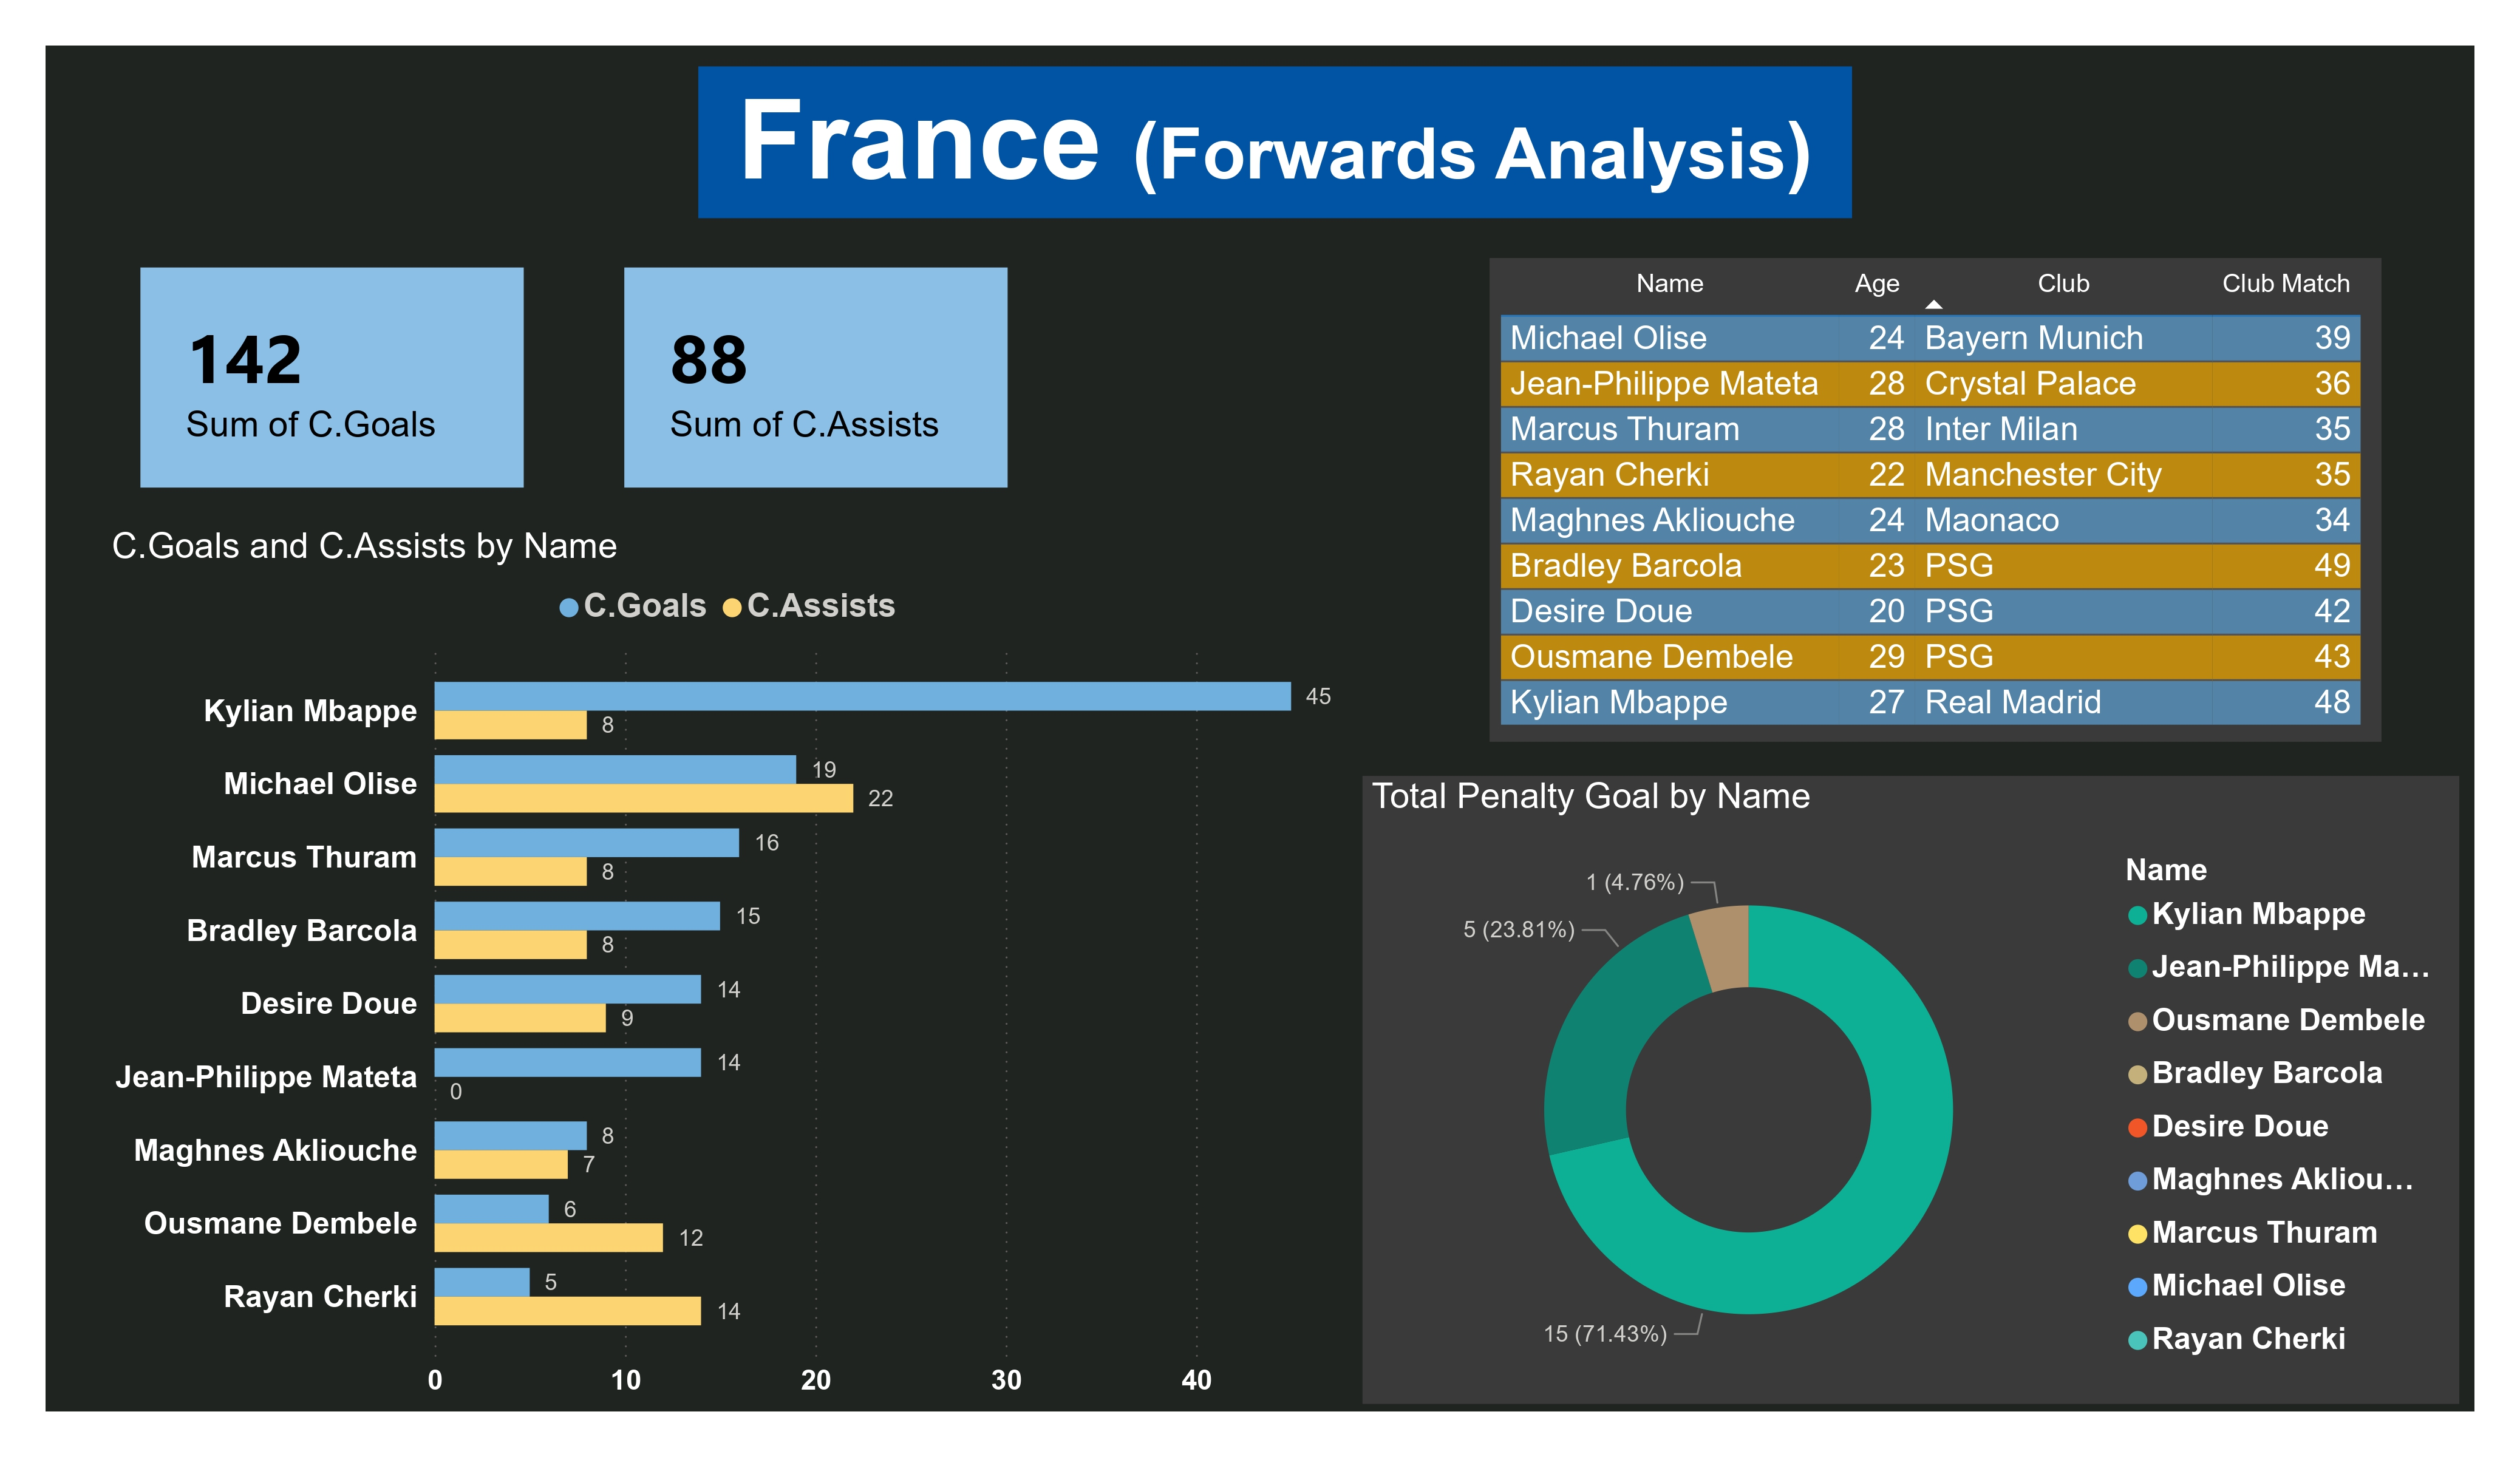

The page's visual inventory and layout, read from the dashboard file:
{"tool":"powerbi","page":{"name":"Fowards","canvas":[1280,720],"ordinal":0},"visuals":[{"type":"slicer","fields":{"Values":["Sheet1.Position"]},"box":[995.9,522.4,246.5,181.2],"z":0},{"type":"clusteredBarChart","fields":{"Category":["Sheet1.Name"],"Y":["Sum(Sheet1.C.Goals)","Sum(Sheet1.C.Assists)"]},"box":[30,253.3,663.3,466.7],"z":1000},{"type":"cardVisual","fields":{"Data":["Sum(Sheet1.C.Goals)"]},"box":[45,111.7,211.7,126.7],"z":2000},{"type":"cardVisual","fields":{"Data":["Sum(Sheet1.C.Assists)"]},"box":[300,111.7,211.7,126.7],"z":3000},{"type":"donutChart","fields":{"Category":["Sheet1.Name"],"Y":["Sum(Sheet1.Total Penalty Goal)"]},"box":[693.6,384.6,578.5,331],"z":4000},{"type":"tableEx","fields":{"Values":["Sheet1.Name","Sheet1.Age","Sheet1.Club","Sheet1.Club Match"]},"box":[761.4,111.9,469.8,255.4],"z":5000},{"type":"textbox","box":[344.5,11.4,607.3,80],"z":6000}]}

Visuals, with their boxes on the page's 1280x720 design canvas (x1, y1, x2, y2). These are canvas units, not pixel positions in the 2520x1457 screenshot, which may show the page scaled, cropped or inside an application window:
slicer - Sheet1.Position: {"x1": 996, "y1": 522, "x2": 1242, "y2": 704}
clusteredBarChart - Sheet1.Name x Sum(Sheet1.C.Goals): {"x1": 30, "y1": 253, "x2": 693, "y2": 720}
cardVisual - Sum(Sheet1.C.Goals): {"x1": 45, "y1": 112, "x2": 257, "y2": 238}
cardVisual - Sum(Sheet1.C.Assists): {"x1": 300, "y1": 112, "x2": 512, "y2": 238}
donutChart - Sheet1.Name x Sum(Sheet1.Total Penalty Goal): {"x1": 694, "y1": 385, "x2": 1272, "y2": 716}
tableEx - Sheet1.Name x Sheet1.Age: {"x1": 761, "y1": 112, "x2": 1231, "y2": 367}
textbox: {"x1": 344, "y1": 11, "x2": 952, "y2": 91}
